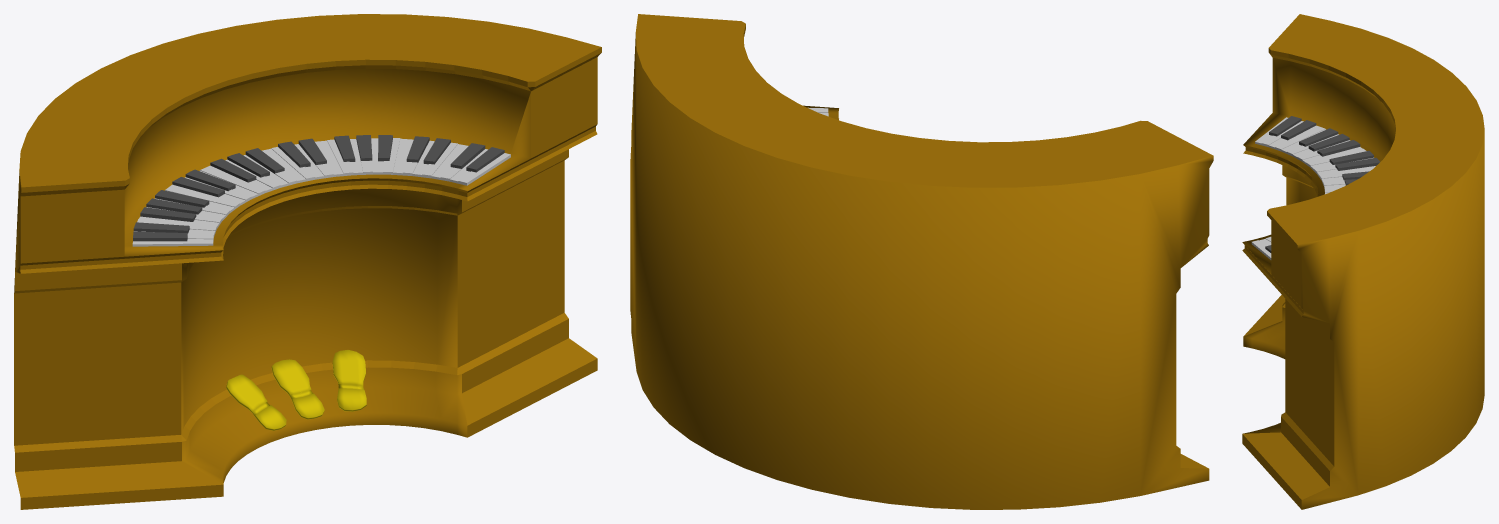
Rendered from Round_Piano.fbx.
3 renders of one model, left to right at view 1: azimuth 30°, elevation 25°; view 2: azimuth 150°, elevation 25°; view 3: azimuth 270°, elevation 25°, orthographic. The views are drawn at different scales.
Visible parts, largest first — view 1: Cylinder.002, Cylinder, Cube.001, Cube.002, Cube; view 2: Cylinder.002; view 3: Cylinder.002, Cylinder.
Boxes of the visible parts, x1,y1,x2,y2 form: Cylinder.002: (14,14,601,509); Cylinder: (132,135,510,246); Cube.001: (332,350,366,411); Cube.002: (271,359,324,419); Cube: (226,374,286,430); Cylinder.002: (630,14,1213,509); Cylinder.002: (1242,14,1484,509); Cylinder: (1251,116,1379,259).
Size of the model in its own units: 263 by 141 by 117.
